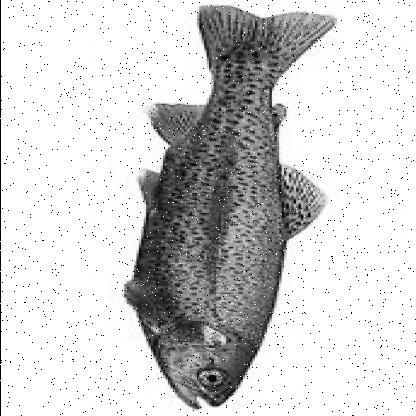fish: (124, 5, 342, 409)
